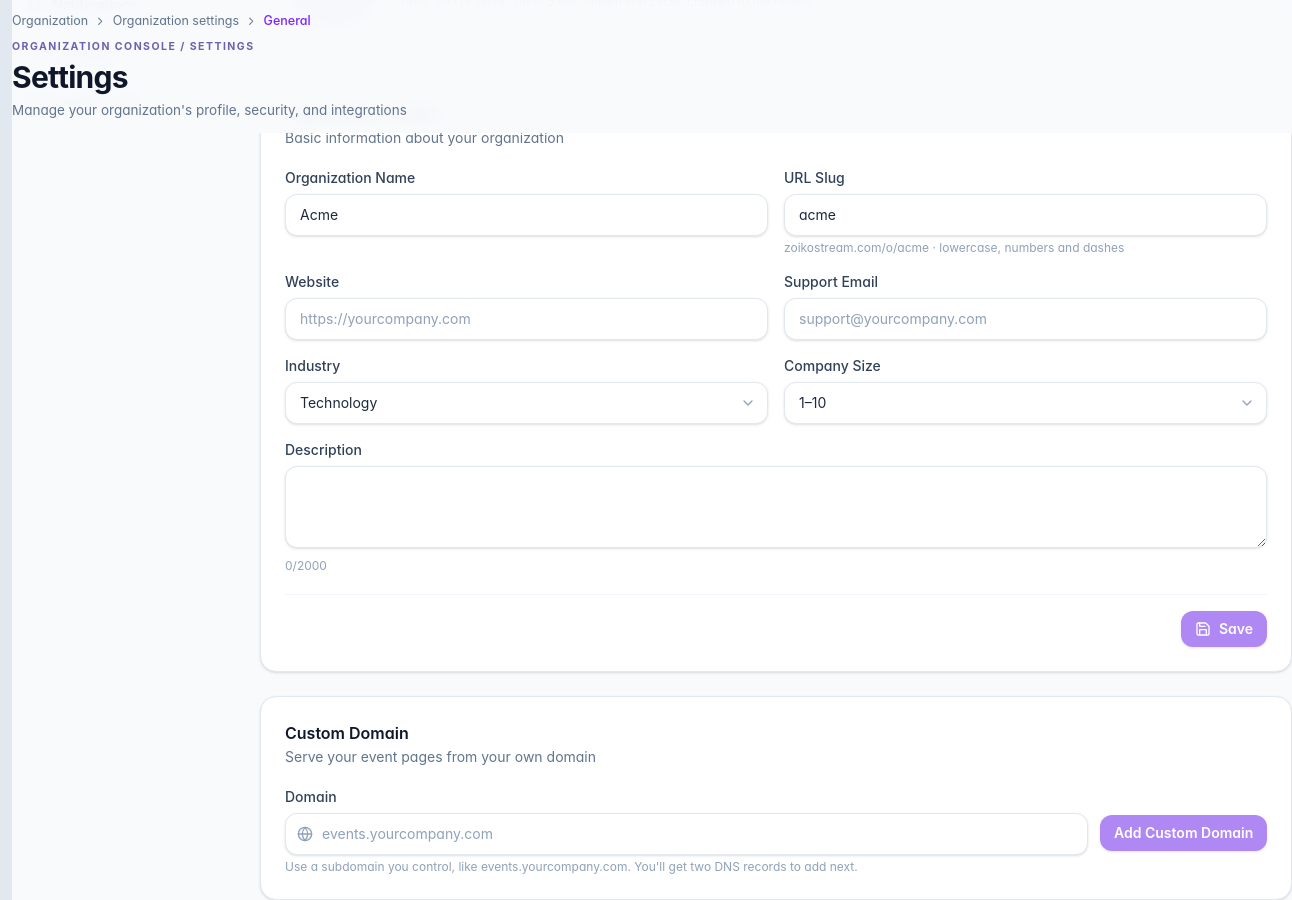
Test case: with custom domains available › when another organization holds the domain: the server's words, no success, nothing lost, ready to retry
The image size is (1292, 900).
(page scrolled)
Type "https://events.acme.com/x" into the field labelled "Domain". click: (686, 834)
box: [285,813,1088,855]
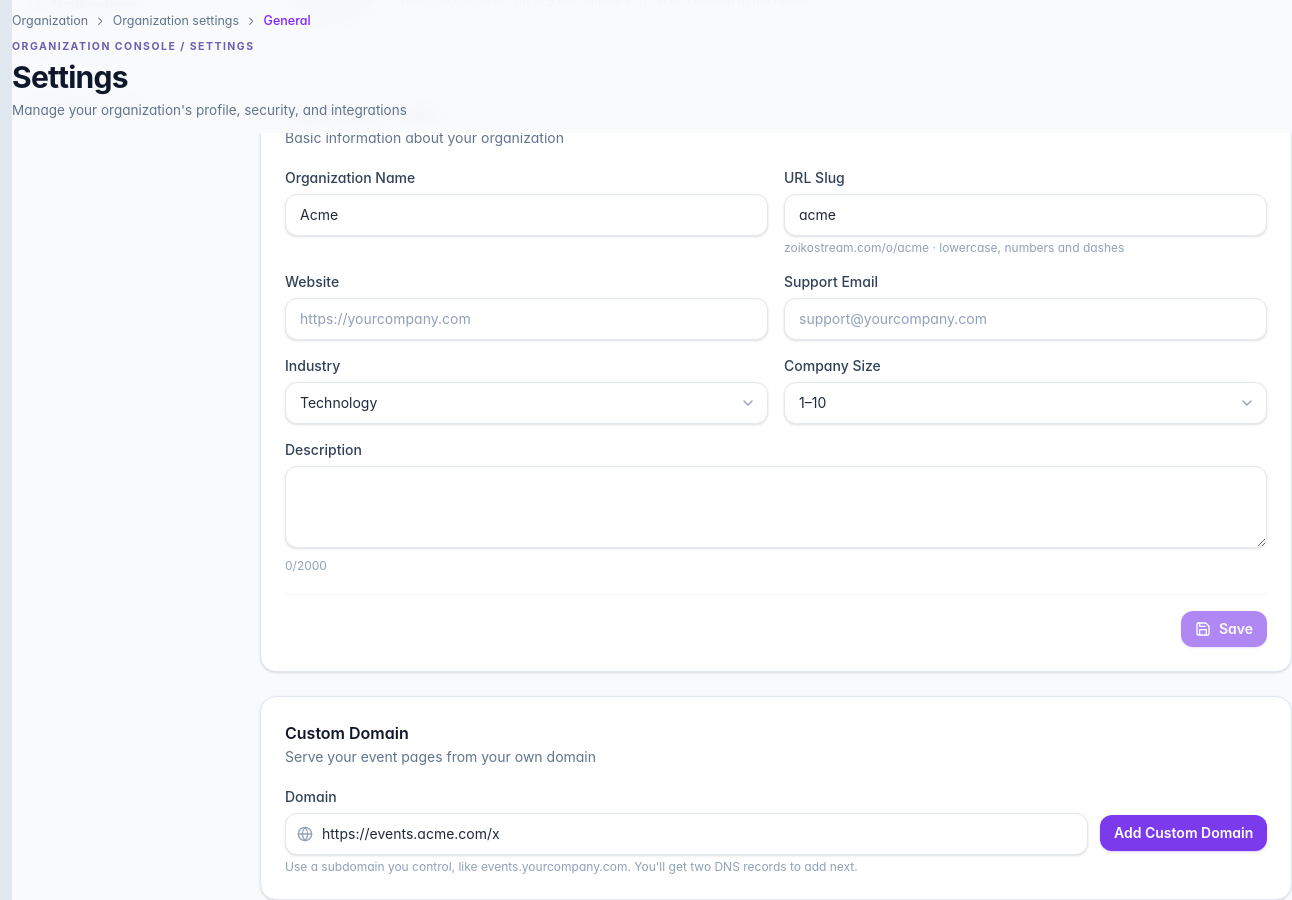
Click the button "Add Custom Domain". click: (1183, 833)
box: [1100,815,1267,851]
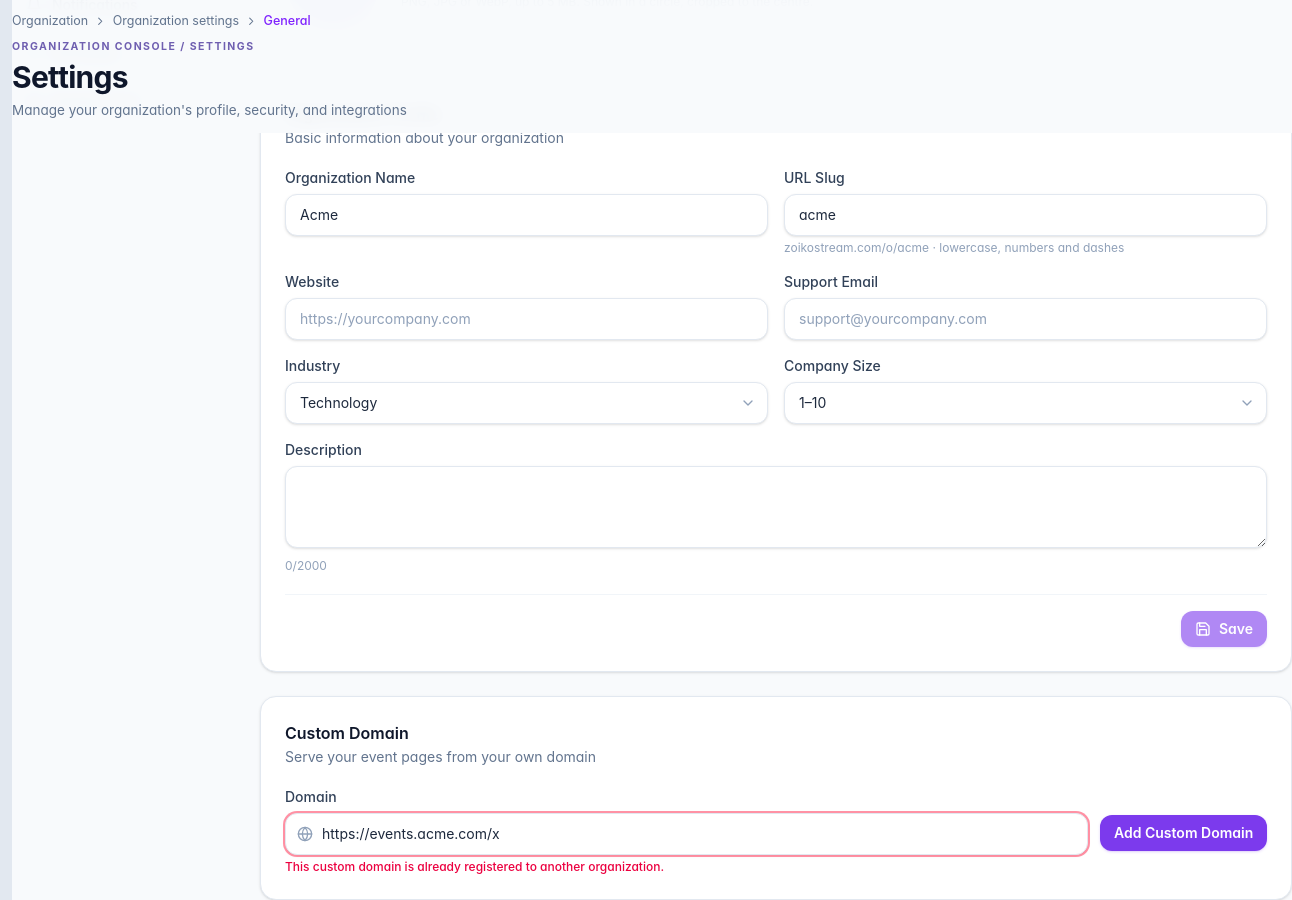
Now the button "Add Custom Domain" is enabled, box [1100,815,1267,851]
Now the text "This custom domain is already registered to another organization." is shown, box [285,859,664,874]
